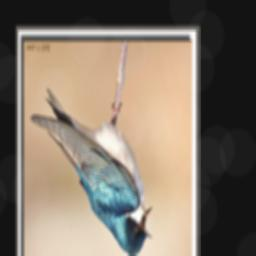Swallow: (29, 86, 155, 256)
